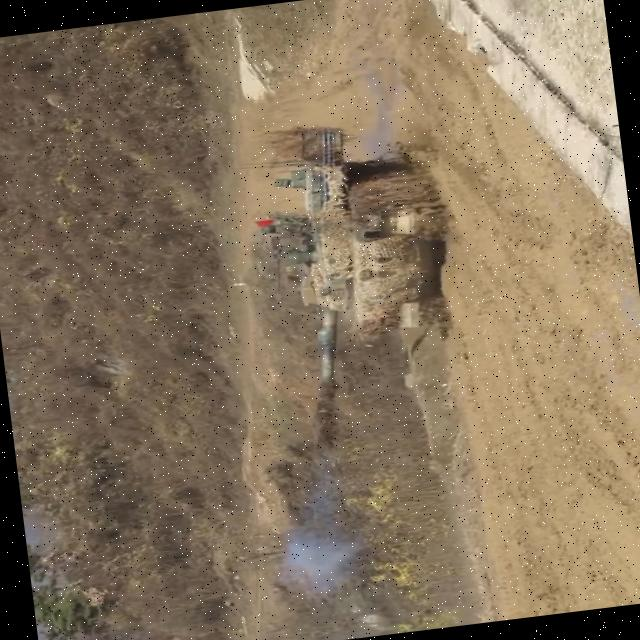korea tank: (244, 109, 474, 458)
